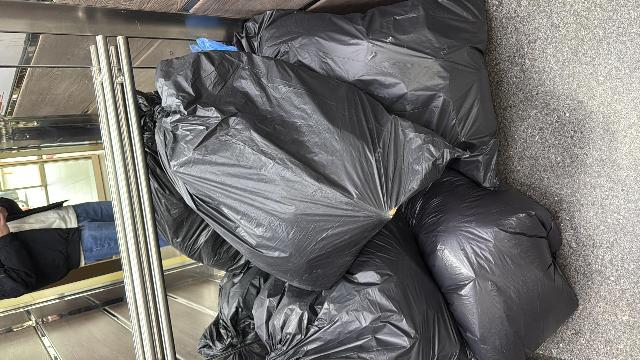Plastik: (155, 56, 451, 274), (241, 0, 495, 178), (199, 255, 472, 360), (414, 184, 581, 354)
